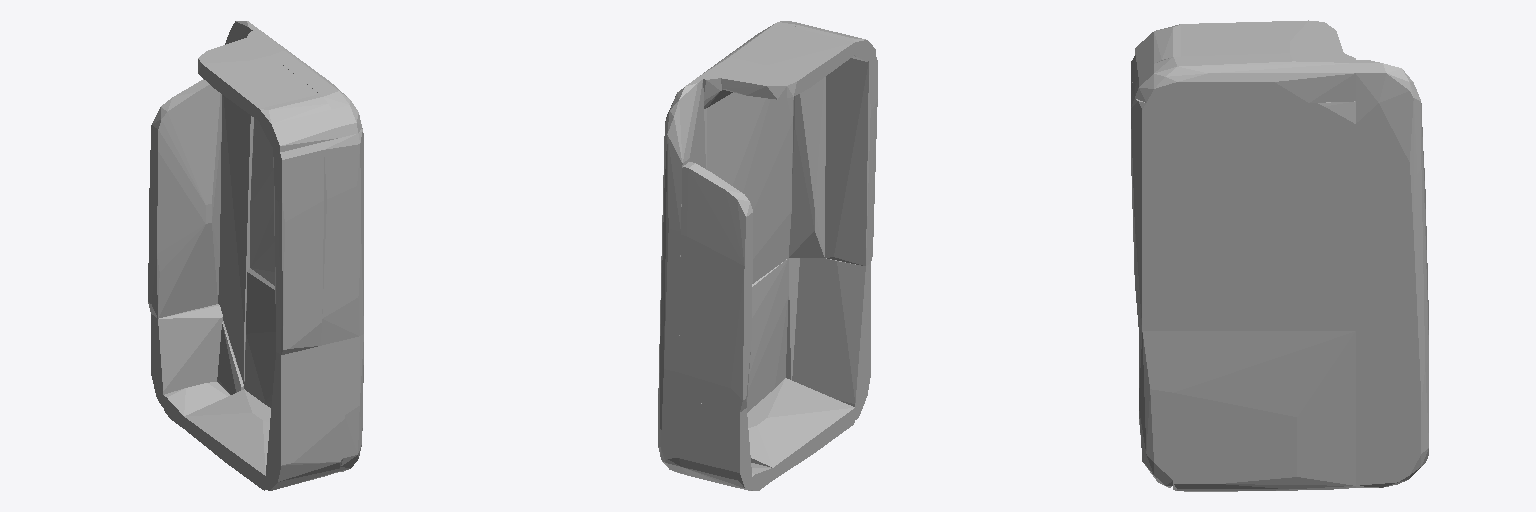
URDF robot description (root):
<robot name="root">
  <link name="link_thingiverse~short_box_with_notch_2262754_convex_piece_0">
    <inertial>
      <origin rpy="0 0 0" xyz="0 0 0"/>
      <mass value="6.19E-02"/>
      <inertia ixx="1.75E-04" ixy="9.05E-06" ixz="6.09E-07" iyy="9.44E-05" iyz="2.98E-07" izz="8.31E-05"/>
    </inertial>
    <visual>
      <origin rpy="0 0 0" xyz="0 0 0"/>
      <geometry>
        <mesh filename="thingiverse~short_box_with_notch_2262754_convex_piece_0.obj" scale="1.0000E+00 1.0000E+00 1.0000E+00"/>
      </geometry>
      <material name="">
        <color rgba="7.50E-01 7.50E-01 7.50E-01 1"/>
      </material>
    </visual>
    <collision>
      <origin rpy="0 0 0" xyz="0 0 0"/>
      <geometry>
        <mesh filename="thingiverse~short_box_with_notch_2262754_convex_piece_0.obj" scale="1.0000E+00 1.0000E+00 1.0000E+00"/>
      </geometry>
    </collision>
  </link>
  <link name="link_thingiverse~short_box_with_notch_2262754_convex_piece_1">
    <inertial>
      <origin rpy="0 0 0" xyz="0 0 0"/>
      <mass value="3.35E-02"/>
      <inertia ixx="8.21E-05" ixy="-1.84E-05" ixz="-3.53E-06" iyy="2.61E-05" iyz="1.25E-05" izz="6.99E-05"/>
    </inertial>
    <visual>
      <origin rpy="0 0 0" xyz="0 0 0"/>
      <geometry>
        <mesh filename="thingiverse~short_box_with_notch_2262754_convex_piece_1.obj" scale="1.0000E+00 1.0000E+00 1.0000E+00"/>
      </geometry>
      <material name="">
        <color rgba="7.50E-01 7.50E-01 7.50E-01 1"/>
      </material>
    </visual>
    <collision>
      <origin rpy="0 0 0" xyz="0 0 0"/>
      <geometry>
        <mesh filename="thingiverse~short_box_with_notch_2262754_convex_piece_1.obj" scale="1.0000E+00 1.0000E+00 1.0000E+00"/>
      </geometry>
    </collision>
  </link>
  <joint name="link_thingiverse~short_box_with_notch_2262754_convex_piece_1_joint" type="fixed">
    <origin rpy="0 0 0" xyz="0 0 0"/>
    <parent link="link_thingiverse~short_box_with_notch_2262754_convex_piece_0"/>
    <child link="link_thingiverse~short_box_with_notch_2262754_convex_piece_1"/>
  </joint>
  <link name="link_thingiverse~short_box_with_notch_2262754_convex_piece_2">
    <inertial>
      <origin rpy="0 0 0" xyz="0 0 0"/>
      <mass value="2.32E-02"/>
      <inertia ixx="7.65E-05" ixy="1.05E-05" ixz="1.15E-05" iyy="4.84E-05" iyz="3.51E-05" izz="3.72E-05"/>
    </inertial>
    <visual>
      <origin rpy="0 0 0" xyz="0 0 0"/>
      <geometry>
        <mesh filename="thingiverse~short_box_with_notch_2262754_convex_piece_2.obj" scale="1.0000E+00 1.0000E+00 1.0000E+00"/>
      </geometry>
      <material name="">
        <color rgba="7.50E-01 7.50E-01 7.50E-01 1"/>
      </material>
    </visual>
    <collision>
      <origin rpy="0 0 0" xyz="0 0 0"/>
      <geometry>
        <mesh filename="thingiverse~short_box_with_notch_2262754_convex_piece_2.obj" scale="1.0000E+00 1.0000E+00 1.0000E+00"/>
      </geometry>
    </collision>
  </link>
  <joint name="link_thingiverse~short_box_with_notch_2262754_convex_piece_2_joint" type="fixed">
    <origin rpy="0 0 0" xyz="0 0 0"/>
    <parent link="link_thingiverse~short_box_with_notch_2262754_convex_piece_1"/>
    <child link="link_thingiverse~short_box_with_notch_2262754_convex_piece_2"/>
  </joint>
  <link name="link_thingiverse~short_box_with_notch_2262754_convex_piece_3">
    <inertial>
      <origin rpy="0 0 0" xyz="0 0 0"/>
      <mass value="1.09E-02"/>
      <inertia ixx="3.17E-05" ixy="-1.94E-06" ixz="-2.02E-06" iyy="1.78E-05" iyz="1.46E-05" izz="1.46E-05"/>
    </inertial>
    <visual>
      <origin rpy="0 0 0" xyz="0 0 0"/>
      <geometry>
        <mesh filename="thingiverse~short_box_with_notch_2262754_convex_piece_3.obj" scale="1.0000E+00 1.0000E+00 1.0000E+00"/>
      </geometry>
      <material name="">
        <color rgba="7.50E-01 7.50E-01 7.50E-01 1"/>
      </material>
    </visual>
    <collision>
      <origin rpy="0 0 0" xyz="0 0 0"/>
      <geometry>
        <mesh filename="thingiverse~short_box_with_notch_2262754_convex_piece_3.obj" scale="1.0000E+00 1.0000E+00 1.0000E+00"/>
      </geometry>
    </collision>
  </link>
  <joint name="link_thingiverse~short_box_with_notch_2262754_convex_piece_3_joint" type="fixed">
    <origin rpy="0 0 0" xyz="0 0 0"/>
    <parent link="link_thingiverse~short_box_with_notch_2262754_convex_piece_2"/>
    <child link="link_thingiverse~short_box_with_notch_2262754_convex_piece_3"/>
  </joint>
  <link name="link_thingiverse~short_box_with_notch_2262754_convex_piece_4">
    <inertial>
      <origin rpy="0 0 0" xyz="0 0 0"/>
      <mass value="3.98E-02"/>
      <inertia ixx="1.68E-04" ixy="8.26E-07" ixz="1.58E-05" iyy="1.62E-04" iyz="8.90E-06" izz="1.56E-05"/>
    </inertial>
    <visual>
      <origin rpy="0 0 0" xyz="0 0 0"/>
      <geometry>
        <mesh filename="thingiverse~short_box_with_notch_2262754_convex_piece_4.obj" scale="1.0000E+00 1.0000E+00 1.0000E+00"/>
      </geometry>
      <material name="">
        <color rgba="7.50E-01 7.50E-01 7.50E-01 1"/>
      </material>
    </visual>
    <collision>
      <origin rpy="0 0 0" xyz="0 0 0"/>
      <geometry>
        <mesh filename="thingiverse~short_box_with_notch_2262754_convex_piece_4.obj" scale="1.0000E+00 1.0000E+00 1.0000E+00"/>
      </geometry>
    </collision>
  </link>
  <joint name="link_thingiverse~short_box_with_notch_2262754_convex_piece_4_joint" type="fixed">
    <origin rpy="0 0 0" xyz="0 0 0"/>
    <parent link="link_thingiverse~short_box_with_notch_2262754_convex_piece_3"/>
    <child link="link_thingiverse~short_box_with_notch_2262754_convex_piece_4"/>
  </joint>
  <link name="link_thingiverse~short_box_with_notch_2262754_convex_piece_5">
    <inertial>
      <origin rpy="0 0 0" xyz="0 0 0"/>
      <mass value="5.40E-02"/>
      <inertia ixx="8.93E-05" ixy="-9.53E-07" ixz="-9.50E-06" iyy="7.70E-05" iyz="3.88E-06" izz="1.58E-05"/>
    </inertial>
    <visual>
      <origin rpy="0 0 0" xyz="0 0 0"/>
      <geometry>
        <mesh filename="thingiverse~short_box_with_notch_2262754_convex_piece_5.obj" scale="1.0000E+00 1.0000E+00 1.0000E+00"/>
      </geometry>
      <material name="">
        <color rgba="7.50E-01 7.50E-01 7.50E-01 1"/>
      </material>
    </visual>
    <collision>
      <origin rpy="0 0 0" xyz="0 0 0"/>
      <geometry>
        <mesh filename="thingiverse~short_box_with_notch_2262754_convex_piece_5.obj" scale="1.0000E+00 1.0000E+00 1.0000E+00"/>
      </geometry>
    </collision>
  </link>
  <joint name="link_thingiverse~short_box_with_notch_2262754_convex_piece_5_joint" type="fixed">
    <origin rpy="0 0 0" xyz="0 0 0"/>
    <parent link="link_thingiverse~short_box_with_notch_2262754_convex_piece_4"/>
    <child link="link_thingiverse~short_box_with_notch_2262754_convex_piece_5"/>
  </joint>
  <link name="link_thingiverse~short_box_with_notch_2262754_convex_piece_6">
    <inertial>
      <origin rpy="0 0 0" xyz="0 0 0"/>
      <mass value="8.22E-02"/>
      <inertia ixx="1.26E-04" ixy="-1.26E-06" ixz="1.05E-05" iyy="1.05E-04" iyz="-1.12E-05" izz="2.49E-05"/>
    </inertial>
    <visual>
      <origin rpy="0 0 0" xyz="0 0 0"/>
      <geometry>
        <mesh filename="thingiverse~short_box_with_notch_2262754_convex_piece_6.obj" scale="1.0000E+00 1.0000E+00 1.0000E+00"/>
      </geometry>
      <material name="">
        <color rgba="7.50E-01 7.50E-01 7.50E-01 1"/>
      </material>
    </visual>
    <collision>
      <origin rpy="0 0 0" xyz="0 0 0"/>
      <geometry>
        <mesh filename="thingiverse~short_box_with_notch_2262754_convex_piece_6.obj" scale="1.0000E+00 1.0000E+00 1.0000E+00"/>
      </geometry>
    </collision>
  </link>
  <joint name="link_thingiverse~short_box_with_notch_2262754_convex_piece_6_joint" type="fixed">
    <origin rpy="0 0 0" xyz="0 0 0"/>
    <parent link="link_thingiverse~short_box_with_notch_2262754_convex_piece_5"/>
    <child link="link_thingiverse~short_box_with_notch_2262754_convex_piece_6"/>
  </joint>
  <link name="link_thingiverse~short_box_with_notch_2262754_convex_piece_7">
    <inertial>
      <origin rpy="0 0 0" xyz="0 0 0"/>
      <mass value="1.62E-02"/>
      <inertia ixx="8.92E-05" ixy="-3.73E-07" ixz="3.86E-06" iyy="8.32E-05" iyz="-8.83E-06" izz="6.63E-06"/>
    </inertial>
    <visual>
      <origin rpy="0 0 0" xyz="0 0 0"/>
      <geometry>
        <mesh filename="thingiverse~short_box_with_notch_2262754_convex_piece_7.obj" scale="1.0000E+00 1.0000E+00 1.0000E+00"/>
      </geometry>
      <material name="">
        <color rgba="7.50E-01 7.50E-01 7.50E-01 1"/>
      </material>
    </visual>
    <collision>
      <origin rpy="0 0 0" xyz="0 0 0"/>
      <geometry>
        <mesh filename="thingiverse~short_box_with_notch_2262754_convex_piece_7.obj" scale="1.0000E+00 1.0000E+00 1.0000E+00"/>
      </geometry>
    </collision>
  </link>
  <joint name="link_thingiverse~short_box_with_notch_2262754_convex_piece_7_joint" type="fixed">
    <origin rpy="0 0 0" xyz="0 0 0"/>
    <parent link="link_thingiverse~short_box_with_notch_2262754_convex_piece_6"/>
    <child link="link_thingiverse~short_box_with_notch_2262754_convex_piece_7"/>
  </joint>
  <link name="link_thingiverse~short_box_with_notch_2262754_convex_piece_8">
    <inertial>
      <origin rpy="0 0 0" xyz="0 0 0"/>
      <mass value="1.26E-02"/>
      <inertia ixx="5.34E-05" ixy="-6.80E-06" ixz="7.43E-06" iyy="3.19E-05" iyz="-2.61E-05" izz="2.66E-05"/>
    </inertial>
    <visual>
      <origin rpy="0 0 0" xyz="0 0 0"/>
      <geometry>
        <mesh filename="thingiverse~short_box_with_notch_2262754_convex_piece_8.obj" scale="1.0000E+00 1.0000E+00 1.0000E+00"/>
      </geometry>
      <material name="">
        <color rgba="7.50E-01 7.50E-01 7.50E-01 1"/>
      </material>
    </visual>
    <collision>
      <origin rpy="0 0 0" xyz="0 0 0"/>
      <geometry>
        <mesh filename="thingiverse~short_box_with_notch_2262754_convex_piece_8.obj" scale="1.0000E+00 1.0000E+00 1.0000E+00"/>
      </geometry>
    </collision>
  </link>
  <joint name="link_thingiverse~short_box_with_notch_2262754_convex_piece_8_joint" type="fixed">
    <origin rpy="0 0 0" xyz="0 0 0"/>
    <parent link="link_thingiverse~short_box_with_notch_2262754_convex_piece_7"/>
    <child link="link_thingiverse~short_box_with_notch_2262754_convex_piece_8"/>
  </joint>
  <link name="link_thingiverse~short_box_with_notch_2262754_convex_piece_9">
    <inertial>
      <origin rpy="0 0 0" xyz="0 0 0"/>
      <mass value="1.74E-02"/>
      <inertia ixx="5.15E-05" ixy="1.22E-05" ixz="-8.60E-06" iyy="2.80E-05" iyz="-2.03E-05" izz="3.45E-05"/>
    </inertial>
    <visual>
      <origin rpy="0 0 0" xyz="0 0 0"/>
      <geometry>
        <mesh filename="thingiverse~short_box_with_notch_2262754_convex_piece_9.obj" scale="1.0000E+00 1.0000E+00 1.0000E+00"/>
      </geometry>
      <material name="">
        <color rgba="7.50E-01 7.50E-01 7.50E-01 1"/>
      </material>
    </visual>
    <collision>
      <origin rpy="0 0 0" xyz="0 0 0"/>
      <geometry>
        <mesh filename="thingiverse~short_box_with_notch_2262754_convex_piece_9.obj" scale="1.0000E+00 1.0000E+00 1.0000E+00"/>
      </geometry>
    </collision>
  </link>
  <joint name="link_thingiverse~short_box_with_notch_2262754_convex_piece_9_joint" type="fixed">
    <origin rpy="0 0 0" xyz="0 0 0"/>
    <parent link="link_thingiverse~short_box_with_notch_2262754_convex_piece_8"/>
    <child link="link_thingiverse~short_box_with_notch_2262754_convex_piece_9"/>
  </joint>
  <link name="link_thingiverse~short_box_with_notch_2262754_convex_piece_10">
    <inertial>
      <origin rpy="0 0 0" xyz="0 0 0"/>
      <mass value="3.67E-02"/>
      <inertia ixx="9.81E-05" ixy="-1.07E-07" ixz="2.26E-07" iyy="4.68E-05" iyz="-3.84E-05" izz="5.31E-05"/>
    </inertial>
    <visual>
      <origin rpy="0 0 0" xyz="0 0 0"/>
      <geometry>
        <mesh filename="thingiverse~short_box_with_notch_2262754_convex_piece_10.obj" scale="1.0000E+00 1.0000E+00 1.0000E+00"/>
      </geometry>
      <material name="">
        <color rgba="7.50E-01 7.50E-01 7.50E-01 1"/>
      </material>
    </visual>
    <collision>
      <origin rpy="0 0 0" xyz="0 0 0"/>
      <geometry>
        <mesh filename="thingiverse~short_box_with_notch_2262754_convex_piece_10.obj" scale="1.0000E+00 1.0000E+00 1.0000E+00"/>
      </geometry>
    </collision>
  </link>
  <joint name="link_thingiverse~short_box_with_notch_2262754_convex_piece_10_joint" type="fixed">
    <origin rpy="0 0 0" xyz="0 0 0"/>
    <parent link="link_thingiverse~short_box_with_notch_2262754_convex_piece_9"/>
    <child link="link_thingiverse~short_box_with_notch_2262754_convex_piece_10"/>
  </joint>
  <link name="link_thingiverse~short_box_with_notch_2262754_convex_piece_11">
    <inertial>
      <origin rpy="0 0 0" xyz="0 0 0"/>
      <mass value="5.07E-03"/>
      <inertia ixx="3.20E-05" ixy="2.49E-06" ixz="-5.00E-06" iyy="2.68E-05" iyz="-1.27E-05" izz="7.62E-06"/>
    </inertial>
    <visual>
      <origin rpy="0 0 0" xyz="0 0 0"/>
      <geometry>
        <mesh filename="thingiverse~short_box_with_notch_2262754_convex_piece_11.obj" scale="1.0000E+00 1.0000E+00 1.0000E+00"/>
      </geometry>
      <material name="">
        <color rgba="7.50E-01 7.50E-01 7.50E-01 1"/>
      </material>
    </visual>
    <collision>
      <origin rpy="0 0 0" xyz="0 0 0"/>
      <geometry>
        <mesh filename="thingiverse~short_box_with_notch_2262754_convex_piece_11.obj" scale="1.0000E+00 1.0000E+00 1.0000E+00"/>
      </geometry>
    </collision>
  </link>
  <joint name="link_thingiverse~short_box_with_notch_2262754_convex_piece_11_joint" type="fixed">
    <origin rpy="0 0 0" xyz="0 0 0"/>
    <parent link="link_thingiverse~short_box_with_notch_2262754_convex_piece_10"/>
    <child link="link_thingiverse~short_box_with_notch_2262754_convex_piece_11"/>
  </joint>
  <link name="link_thingiverse~short_box_with_notch_2262754_convex_piece_12">
    <inertial>
      <origin rpy="0 0 0" xyz="0 0 0"/>
      <mass value="1.93E-02"/>
      <inertia ixx="1.08E-04" ixy="1.14E-06" ixz="-1.87E-05" iyy="1.09E-04" iyz="-5.75E-06" izz="7.69E-06"/>
    </inertial>
    <visual>
      <origin rpy="0 0 0" xyz="0 0 0"/>
      <geometry>
        <mesh filename="thingiverse~short_box_with_notch_2262754_convex_piece_12.obj" scale="1.0000E+00 1.0000E+00 1.0000E+00"/>
      </geometry>
      <material name="">
        <color rgba="7.50E-01 7.50E-01 7.50E-01 1"/>
      </material>
    </visual>
    <collision>
      <origin rpy="0 0 0" xyz="0 0 0"/>
      <geometry>
        <mesh filename="thingiverse~short_box_with_notch_2262754_convex_piece_12.obj" scale="1.0000E+00 1.0000E+00 1.0000E+00"/>
      </geometry>
    </collision>
  </link>
  <joint name="link_thingiverse~short_box_with_notch_2262754_convex_piece_12_joint" type="fixed">
    <origin rpy="0 0 0" xyz="0 0 0"/>
    <parent link="link_thingiverse~short_box_with_notch_2262754_convex_piece_11"/>
    <child link="link_thingiverse~short_box_with_notch_2262754_convex_piece_12"/>
  </joint>
  <link name="link_thingiverse~short_box_with_notch_2262754_convex_piece_13">
    <inertial>
      <origin rpy="0 0 0" xyz="0 0 0"/>
      <mass value="4.47E-03"/>
      <inertia ixx="2.27E-05" ixy="-2.02E-06" ixz="3.93E-06" iyy="1.89E-05" iyz="-9.19E-06" izz="5.85E-06"/>
    </inertial>
    <visual>
      <origin rpy="0 0 0" xyz="0 0 0"/>
      <geometry>
        <mesh filename="thingiverse~short_box_with_notch_2262754_convex_piece_13.obj" scale="1.0000E+00 1.0000E+00 1.0000E+00"/>
      </geometry>
      <material name="">
        <color rgba="7.50E-01 7.50E-01 7.50E-01 1"/>
      </material>
    </visual>
    <collision>
      <origin rpy="0 0 0" xyz="0 0 0"/>
      <geometry>
        <mesh filename="thingiverse~short_box_with_notch_2262754_convex_piece_13.obj" scale="1.0000E+00 1.0000E+00 1.0000E+00"/>
      </geometry>
    </collision>
  </link>
  <joint name="link_thingiverse~short_box_with_notch_2262754_convex_piece_13_joint" type="fixed">
    <origin rpy="0 0 0" xyz="0 0 0"/>
    <parent link="link_thingiverse~short_box_with_notch_2262754_convex_piece_12"/>
    <child link="link_thingiverse~short_box_with_notch_2262754_convex_piece_13"/>
  </joint>
  <link name="link_thingiverse~short_box_with_notch_2262754_convex_piece_14">
    <inertial>
      <origin rpy="0 0 0" xyz="0 0 0"/>
      <mass value="1.37E-03"/>
      <inertia ixx="5.95E-06" ixy="-8.14E-08" ixz="1.40E-07" iyy="4.43E-06" iyz="-2.55E-06" izz="1.53E-06"/>
    </inertial>
    <visual>
      <origin rpy="0 0 0" xyz="0 0 0"/>
      <geometry>
        <mesh filename="thingiverse~short_box_with_notch_2262754_convex_piece_14.obj" scale="1.0000E+00 1.0000E+00 1.0000E+00"/>
      </geometry>
      <material name="">
        <color rgba="7.50E-01 7.50E-01 7.50E-01 1"/>
      </material>
    </visual>
    <collision>
      <origin rpy="0 0 0" xyz="0 0 0"/>
      <geometry>
        <mesh filename="thingiverse~short_box_with_notch_2262754_convex_piece_14.obj" scale="1.0000E+00 1.0000E+00 1.0000E+00"/>
      </geometry>
    </collision>
  </link>
  <joint name="link_thingiverse~short_box_with_notch_2262754_convex_piece_14_joint" type="fixed">
    <origin rpy="0 0 0" xyz="0 0 0"/>
    <parent link="link_thingiverse~short_box_with_notch_2262754_convex_piece_13"/>
    <child link="link_thingiverse~short_box_with_notch_2262754_convex_piece_14"/>
  </joint>
</robot>

--- Render facts (derived) ---
The picture shows the robot from 3 angles, left to right: view 1: azimuth 30°, elevation 25°; view 2: azimuth 150°, elevation 25°; view 3: azimuth 270°, elevation 25°; orthographic projection.
Robot: root — 15 links, 14 joints (14 fixed); root link link_thingiverse~short_box_with_notch_2262754_convex_piece_0; default pose: all joints at 0.
Visible links, largest first — view 1: link_thingiverse~short_box_with_notch_2262754_convex_piece_1, link_thingiverse~short_box_with_notch_2262754_convex_piece_9, link_thingiverse~short_box_with_notch_2262754_convex_piece_2, link_thingiverse~short_box_with_notch_2262754_convex_piece_10, link_thingiverse~short_box_with_notch_2262754_convex_piece_0, link_thingiverse~short_box_with_notch_2262754_convex_piece_8, link_thingiverse~short_box_with_notch_2262754_convex_piece_12, link_thingiverse~short_box_with_notch_2262754_convex_piece_4, link_thingiverse~short_box_with_notch_2262754_convex_piece_5, link_thingiverse~short_box_with_notch_2262754_convex_piece_6, link_thingiverse~short_box_with_notch_2262754_convex_piece_11, link_thingiverse~short_box_with_notch_2262754_convex_piece_7 (+3 smaller); view 2: link_thingiverse~short_box_with_notch_2262754_convex_piece_1, link_thingiverse~short_box_with_notch_2262754_convex_piece_6, link_thingiverse~short_box_with_notch_2262754_convex_piece_2, link_thingiverse~short_box_with_notch_2262754_convex_piece_9, link_thingiverse~short_box_with_notch_2262754_convex_piece_0, link_thingiverse~short_box_with_notch_2262754_convex_piece_4, link_thingiverse~short_box_with_notch_2262754_convex_piece_12, link_thingiverse~short_box_with_notch_2262754_convex_piece_10, link_thingiverse~short_box_with_notch_2262754_convex_piece_8, link_thingiverse~short_box_with_notch_2262754_convex_piece_5, link_thingiverse~short_box_with_notch_2262754_convex_piece_7, link_thingiverse~short_box_with_notch_2262754_convex_piece_3 (+1 smaller); view 3: link_thingiverse~short_box_with_notch_2262754_convex_piece_6, link_thingiverse~short_box_with_notch_2262754_convex_piece_0, link_thingiverse~short_box_with_notch_2262754_convex_piece_5, link_thingiverse~short_box_with_notch_2262754_convex_piece_7, link_thingiverse~short_box_with_notch_2262754_convex_piece_10, link_thingiverse~short_box_with_notch_2262754_convex_piece_12, link_thingiverse~short_box_with_notch_2262754_convex_piece_3, link_thingiverse~short_box_with_notch_2262754_convex_piece_4, link_thingiverse~short_box_with_notch_2262754_convex_piece_11.
Link boxes in pixels (bbox=[...]): link_thingiverse~short_box_with_notch_2262754_convex_piece_1: bbox=[148, 79, 221, 318]; link_thingiverse~short_box_with_notch_2262754_convex_piece_9: bbox=[273, 142, 323, 354]; link_thingiverse~short_box_with_notch_2262754_convex_piece_2: bbox=[266, 340, 344, 490]; link_thingiverse~short_box_with_notch_2262754_convex_piece_10: bbox=[321, 128, 363, 345]; link_thingiverse~short_box_with_notch_2262754_convex_piece_0: bbox=[218, 21, 258, 383]; link_thingiverse~short_box_with_notch_2262754_convex_piece_8: bbox=[151, 304, 222, 406]; link_thingiverse~short_box_with_notch_2262754_convex_piece_12: bbox=[198, 38, 318, 120]; link_thingiverse~short_box_with_notch_2262754_convex_piece_4: bbox=[184, 389, 270, 490]; link_thingiverse~short_box_with_notch_2262754_convex_piece_5: bbox=[244, 268, 275, 407]; link_thingiverse~short_box_with_notch_2262754_convex_piece_6: bbox=[250, 118, 274, 285]; link_thingiverse~short_box_with_notch_2262754_convex_piece_11: bbox=[259, 94, 339, 151]; link_thingiverse~short_box_with_notch_2262754_convex_piece_7: bbox=[247, 30, 361, 137]; link_thingiverse~short_box_with_notch_2262754_convex_piece_1: bbox=[679, 162, 752, 412]; link_thingiverse~short_box_with_notch_2262754_convex_piece_6: bbox=[704, 92, 793, 283]; link_thingiverse~short_box_with_notch_2262754_convex_piece_2: bbox=[792, 258, 870, 419]; link_thingiverse~short_box_with_notch_2262754_convex_piece_9: bbox=[825, 56, 877, 265]; link_thingiverse~short_box_with_notch_2262754_convex_piece_0: bbox=[658, 78, 705, 475]; link_thingiverse~short_box_with_notch_2262754_convex_piece_4: bbox=[747, 378, 854, 479]; link_thingiverse~short_box_with_notch_2262754_convex_piece_12: bbox=[721, 28, 854, 99]; link_thingiverse~short_box_with_notch_2262754_convex_piece_10: bbox=[789, 77, 825, 257]; link_thingiverse~short_box_with_notch_2262754_convex_piece_8: bbox=[679, 398, 751, 490]; link_thingiverse~short_box_with_notch_2262754_convex_piece_5: bbox=[747, 258, 788, 412]; link_thingiverse~short_box_with_notch_2262754_convex_piece_7: bbox=[697, 21, 804, 108]; link_thingiverse~short_box_with_notch_2262754_convex_piece_3: bbox=[786, 258, 799, 379]; link_thingiverse~short_box_with_notch_2262754_convex_piece_6: bbox=[1173, 101, 1355, 330]; link_thingiverse~short_box_with_notch_2262754_convex_piece_0: bbox=[1356, 60, 1428, 487]; link_thingiverse~short_box_with_notch_2262754_convex_piece_5: bbox=[1173, 331, 1355, 465]; link_thingiverse~short_box_with_notch_2262754_convex_piece_7: bbox=[1135, 53, 1355, 102]; link_thingiverse~short_box_with_notch_2262754_convex_piece_10: bbox=[1131, 79, 1172, 330]; link_thingiverse~short_box_with_notch_2262754_convex_piece_12: bbox=[1181, 20, 1343, 56]; link_thingiverse~short_box_with_notch_2262754_convex_piece_3: bbox=[1139, 329, 1172, 487]; link_thingiverse~short_box_with_notch_2262754_convex_piece_4: bbox=[1173, 465, 1355, 491]; link_thingiverse~short_box_with_notch_2262754_convex_piece_11: bbox=[1135, 24, 1180, 85].
Size in the robot's own frame: 0.0358 by 0.092 by 0.1457 metres.
15 mesh visuals loaded from 15 distinct referenced files (15 OBJ).
